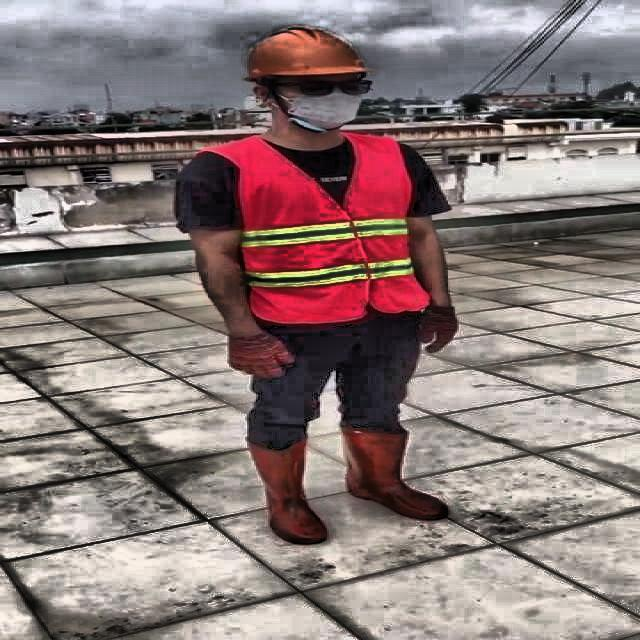safety_helmet: (240, 19, 372, 85)
safety_jacket: (228, 134, 427, 322)
